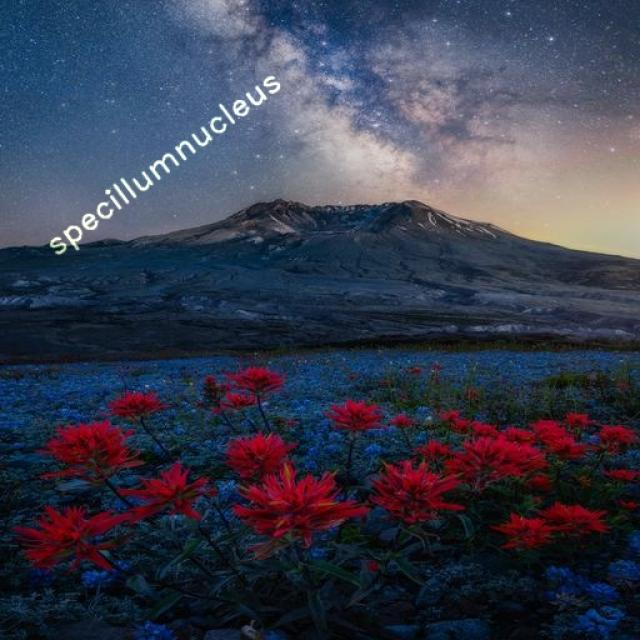watermark: (47, 59, 282, 262)
